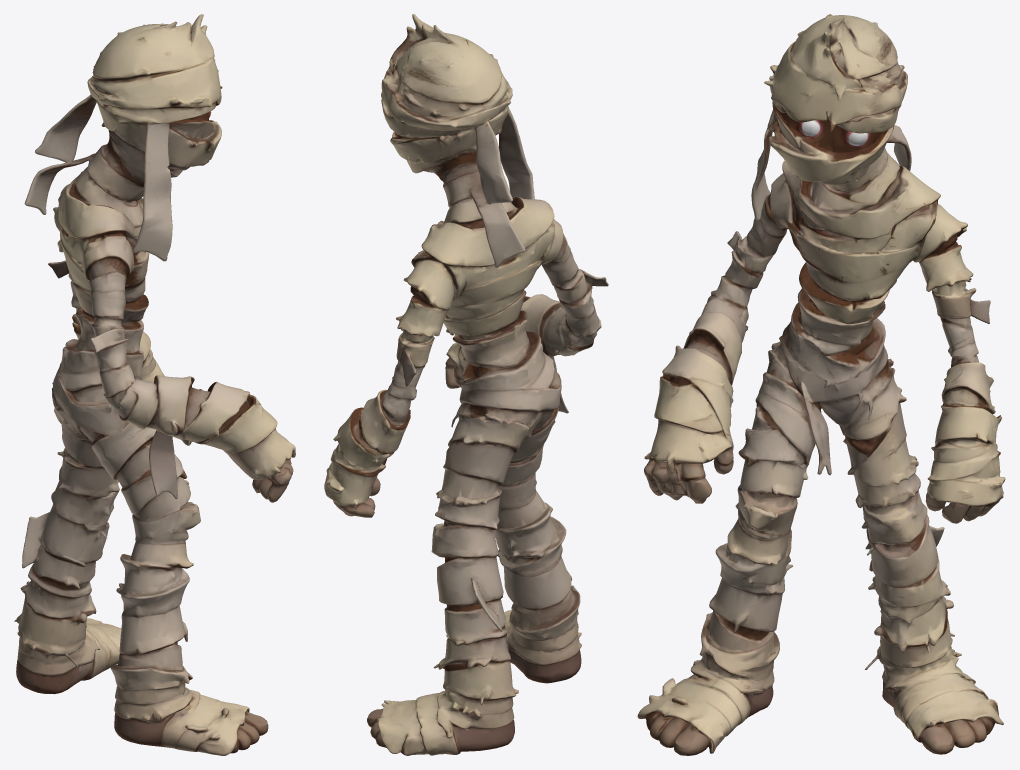
Rendered from npc_mummy_stylized.glb.
3 views of the same model, side by side, from view 1: azimuth 30°, elevation 25°; view 2: azimuth 150°, elevation 25°; view 3: azimuth 270°, elevation 25° (orthographic). The views are drawn at different scales.
Visible parts, largest first — view 1: tripo_node_f8a493a2-5823-488e-b4ea-26c9c2e32c1c_0; view 2: tripo_node_f8a493a2-5823-488e-b4ea-26c9c2e32c1c_0; view 3: tripo_node_f8a493a2-5823-488e-b4ea-26c9c2e32c1c_0.
Part boxes in pixels (box(x1,y1,x2,y2)): tripo_node_f8a493a2-5823-488e-b4ea-26c9c2e32c1c_0: box(14, 14, 295, 755); tripo_node_f8a493a2-5823-488e-b4ea-26c9c2e32c1c_0: box(324, 14, 608, 755); tripo_node_f8a493a2-5823-488e-b4ea-26c9c2e32c1c_0: box(637, 14, 1005, 755).
Size of the model in its own units: 0.2778 by 1 by 0.4564.
1 material, 1 textured.
